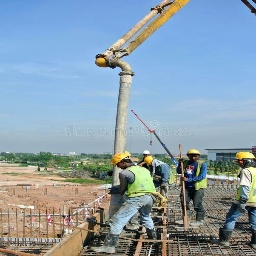helmet: (233, 152, 256, 160), (188, 149, 202, 155)
person: (97, 150, 159, 254), (221, 152, 256, 247), (175, 148, 208, 229)
vest: (122, 166, 162, 200)
